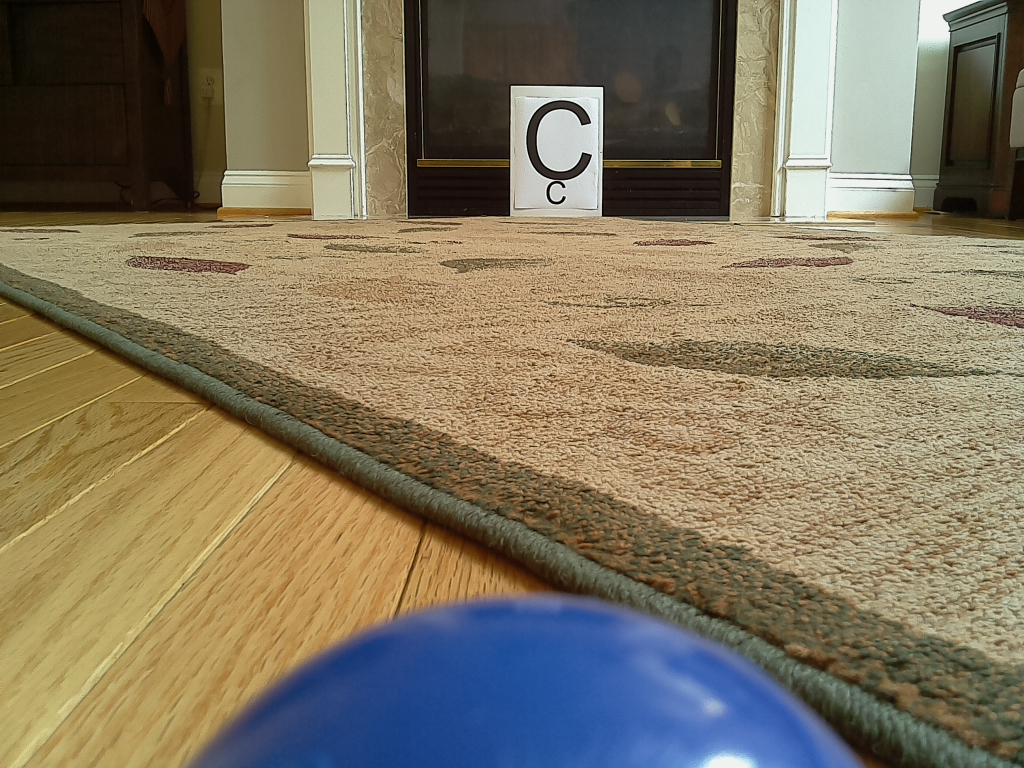letter: (526, 101, 591, 182)
